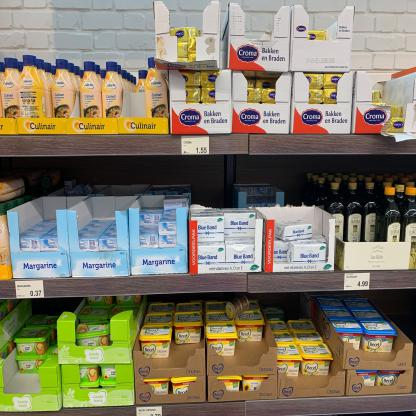prtg: (16, 281, 45, 299), (182, 137, 210, 155), (345, 274, 371, 291)
